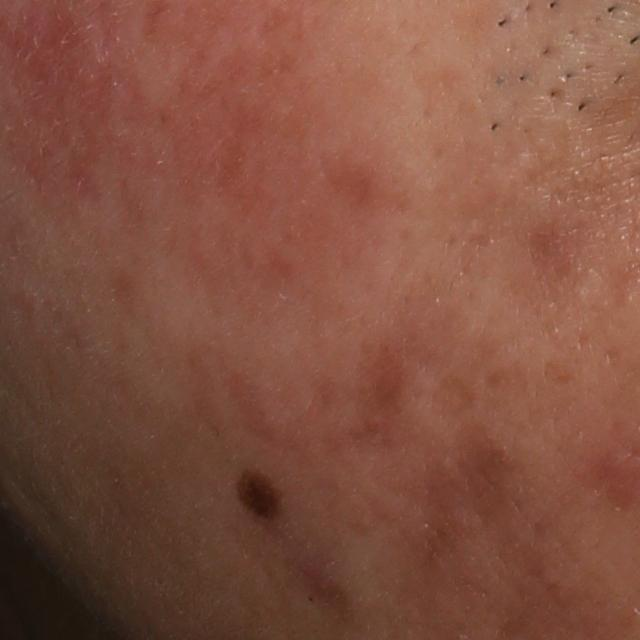atrophic_scar: (428, 372, 477, 424)
nevus: (232, 467, 292, 526)
